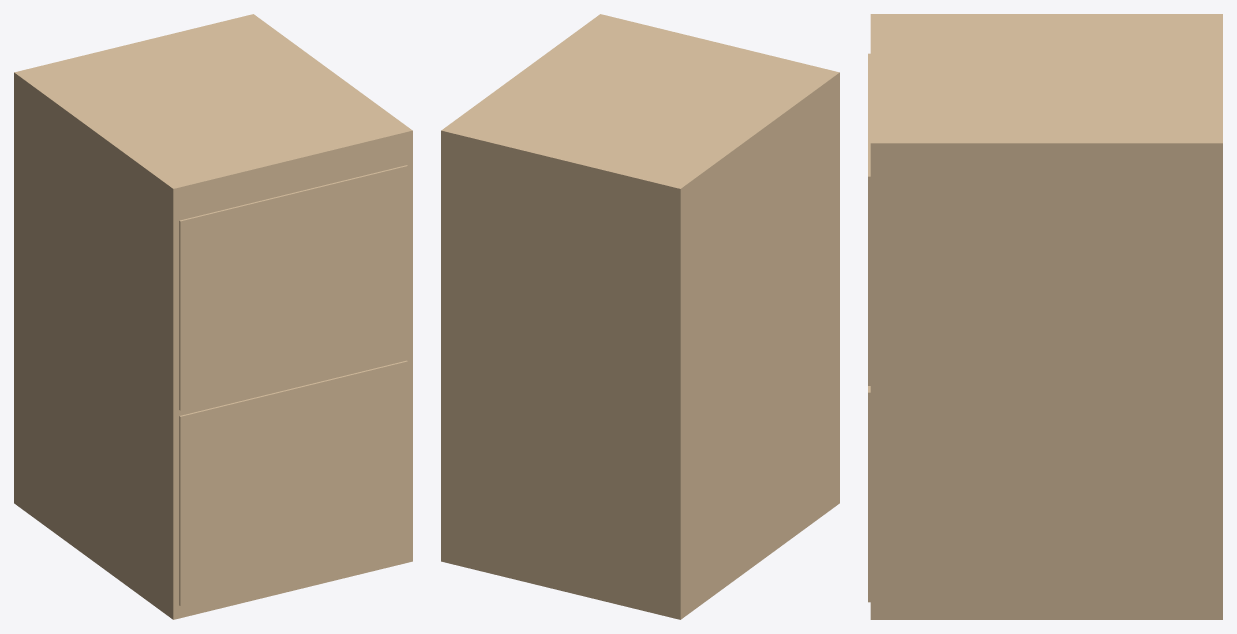
Rendered from f-kitchen-o04-8309a626fb.glb.
3 renders of one model, left to right at view 1: azimuth 30°, elevation 25°; view 2: azimuth 150°, elevation 25°; view 3: azimuth 270°, elevation 25°, orthographic. The views are drawn at different scales.
Parts seen in each view (by area): view 1: part-00, drawer-2, drawer-1; view 2: part-00; view 3: part-00, drawer-2, drawer-1.
Boxes of the visible parts, bbox=[...] form: part-00: bbox=[14, 14, 412, 619]; drawer-2: bbox=[179, 165, 407, 410]; drawer-1: bbox=[179, 360, 407, 606]; part-00: bbox=[441, 14, 839, 619]; part-00: bbox=[870, 14, 1222, 619]; drawer-2: bbox=[868, 53, 870, 385]; drawer-1: bbox=[868, 386, 870, 602].
Bounding box in the file's own units: 0.5 × 0.86 × 0.58.
